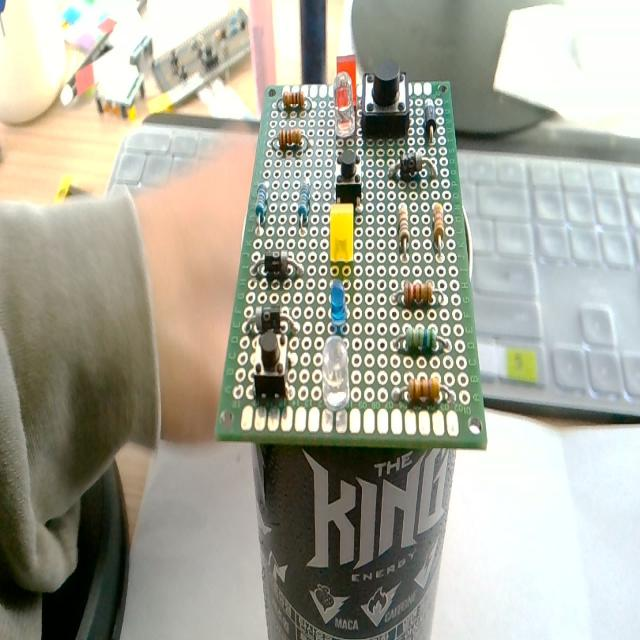diode: (251, 304, 299, 348), (252, 248, 302, 280), (390, 150, 437, 182), (424, 98, 437, 141)
led: (321, 335, 350, 413), (332, 71, 356, 138), (329, 202, 354, 262), (327, 274, 350, 334)
resistor: (393, 378, 451, 408), (394, 330, 447, 355), (393, 284, 438, 308), (277, 89, 308, 113), (254, 183, 268, 234), (398, 203, 410, 254), (297, 182, 311, 224), (433, 201, 445, 246), (278, 128, 302, 148)
switch: (249, 330, 296, 408), (361, 62, 409, 138), (335, 147, 362, 205)
